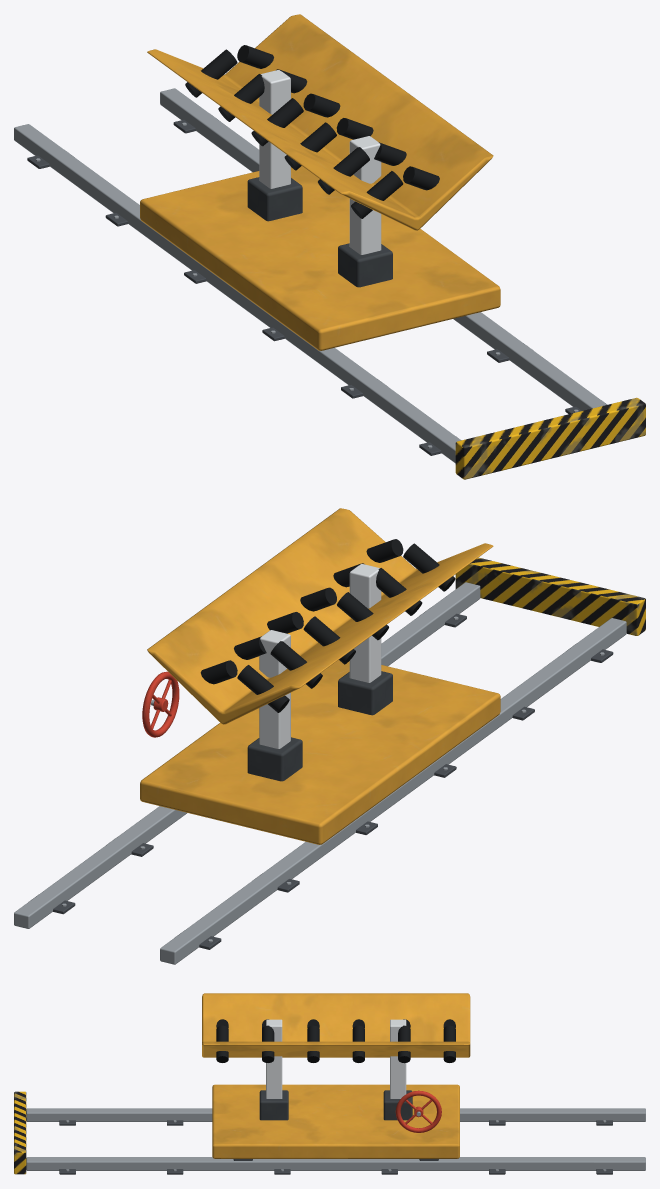
The model's file is LoadingCradle.glb.
3 views of the same model, one above another, from view 1: azimuth 30°, elevation 25°; view 2: azimuth 150°, elevation 25°; view 3: azimuth 270°, elevation 25° (orthographic). The views are drawn at different scales.
Parts seen in each view (by area): view 1: LoadingCradle_Carriage, LoadingCradle_LiftTray, LoadingCradle_Body; view 2: LoadingCradle_Carriage, LoadingCradle_LiftTray, LoadingCradle_Body, LoadingCradle_LiftCrank; view 3: LoadingCradle_Carriage, LoadingCradle_LiftTray, LoadingCradle_Body, LoadingCradle_LiftCrank.
Boxes of the visible parts, x1,y1,x2,y2 form: LoadingCradle_Carriage: (140, 70, 500, 350); LoadingCradle_LiftTray: (147, 14, 493, 230); LoadingCradle_Body: (14, 88, 645, 479); LoadingCradle_Carriage: (140, 564, 500, 844); LoadingCradle_LiftTray: (147, 508, 493, 724); LoadingCradle_Body: (14, 557, 645, 964); LoadingCradle_LiftCrank: (142, 671, 179, 737); LoadingCradle_Carriage: (212, 1019, 459, 1160); LoadingCradle_LiftTray: (202, 993, 470, 1063); LoadingCradle_Body: (14, 1091, 645, 1174); LoadingCradle_LiftCrank: (395, 1090, 441, 1132).
Bounding box in the file's own units: 0.762 × 0.67 × 3.06.
8 materials, 4 textured.
